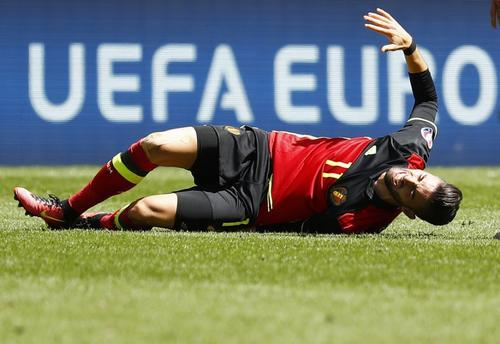down: (11, 13, 465, 240)
